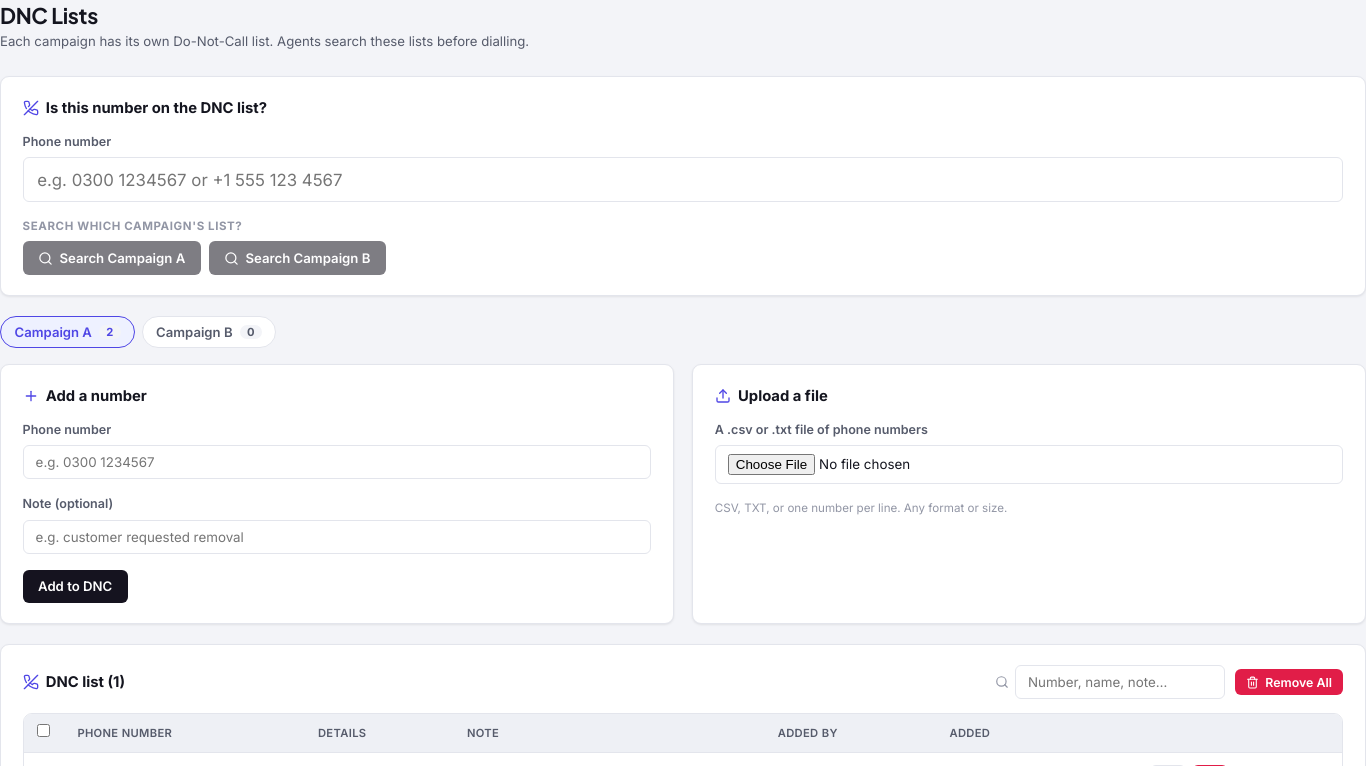
DncManagement › switching campaign loads that campaign's own list
The image size is (1366, 766).
Click the tab "Campaign B 0". click: point(209, 332)
box: [142, 316, 276, 348]
(page scrolled)
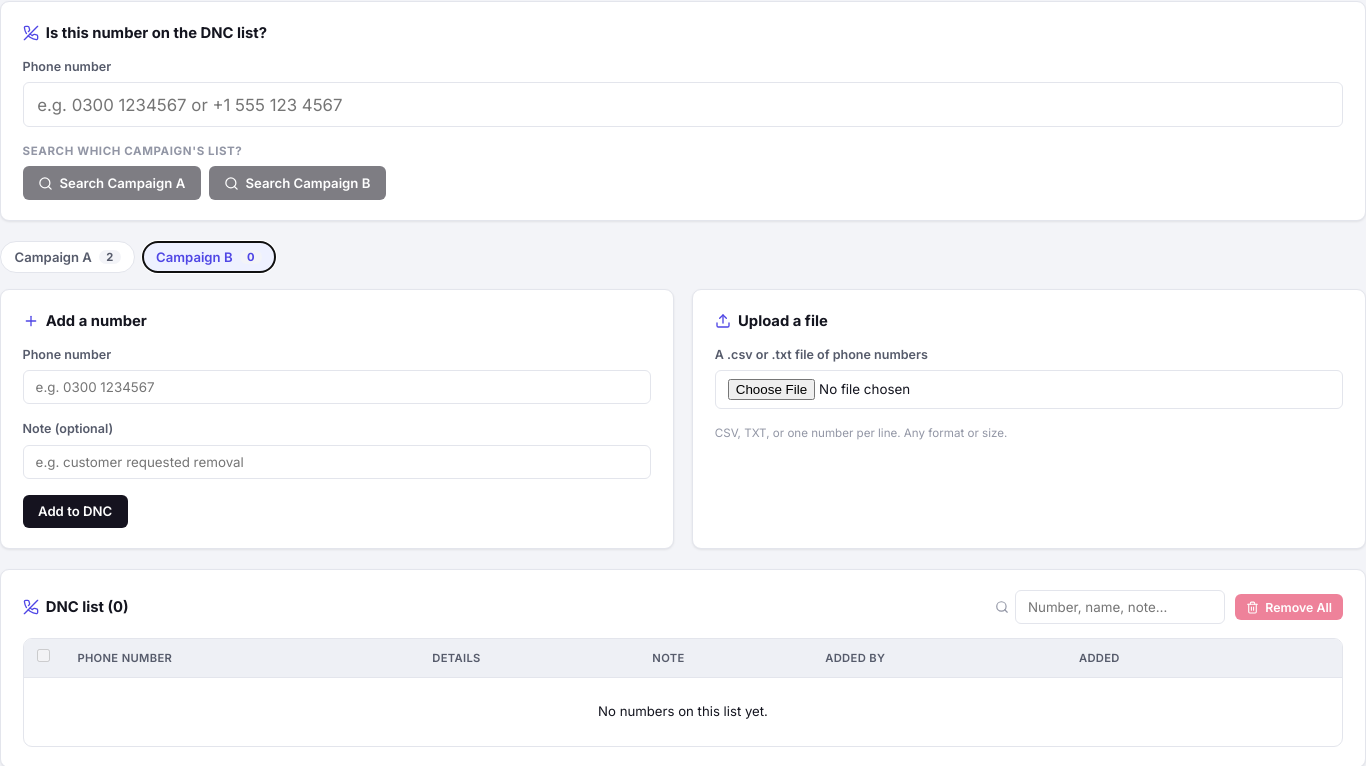
expect the text "No numbers on this list yet." is shown: met, box [24, 678, 1342, 746]
